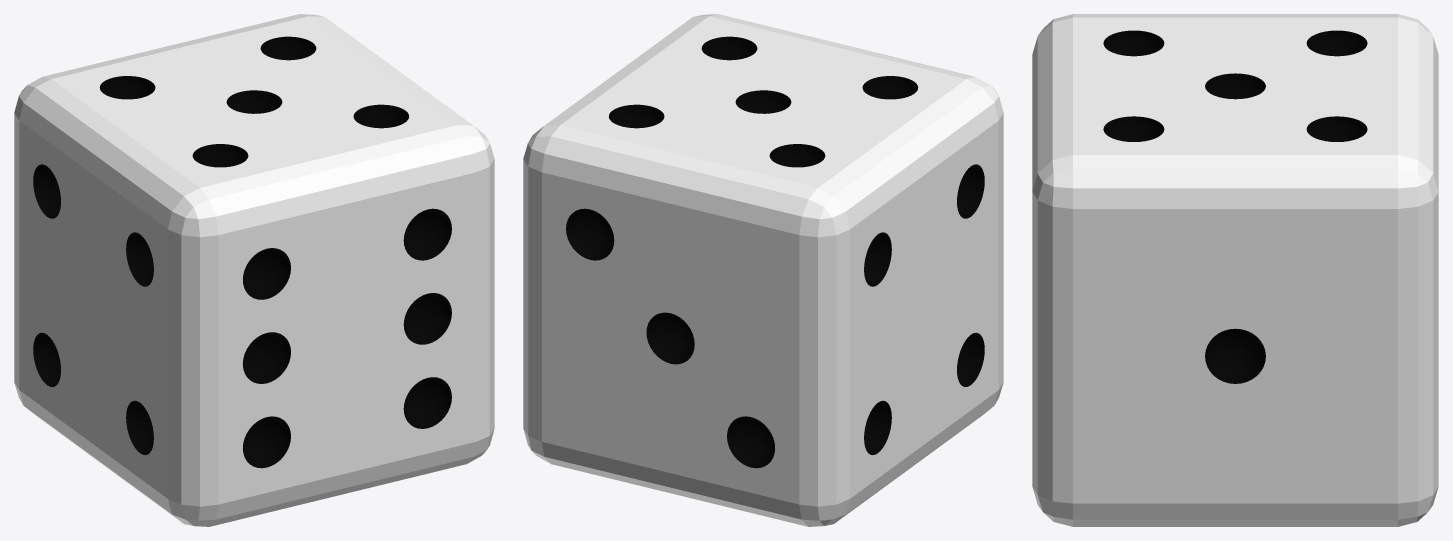
File: dice.gltf
3 renders of one model, left to right at view 1: azimuth 30°, elevation 25°; view 2: azimuth 150°, elevation 25°; view 3: azimuth 270°, elevation 25°, orthographic. The views are drawn at different scales.
Parts seen in each view (by area): view 1: Cube; view 2: Cube; view 3: Cube.
Part boxes in pixels (x1,y1,x2,y2): Cube: (14,14,494,526); Cube: (523,14,1003,526); Cube: (1032,14,1438,526).
Bounding box in the file's own units: 2 × 2 × 2.
Materials: 1 (1 with a texture image).
